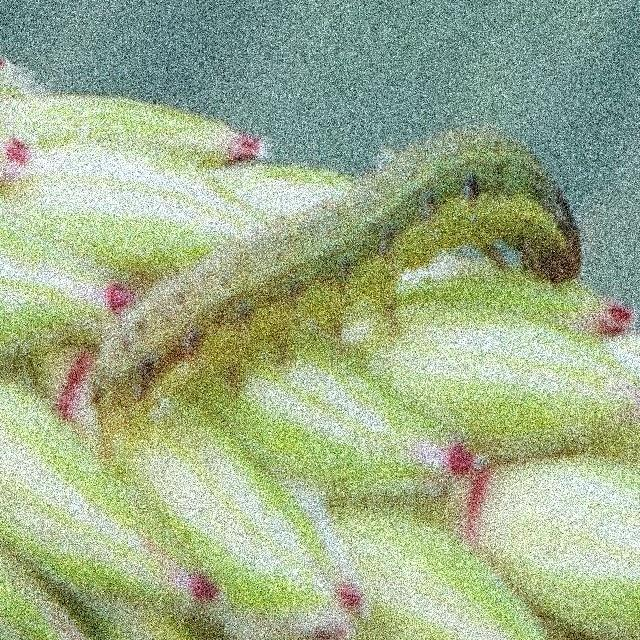Plaga: (89, 127, 587, 463)
